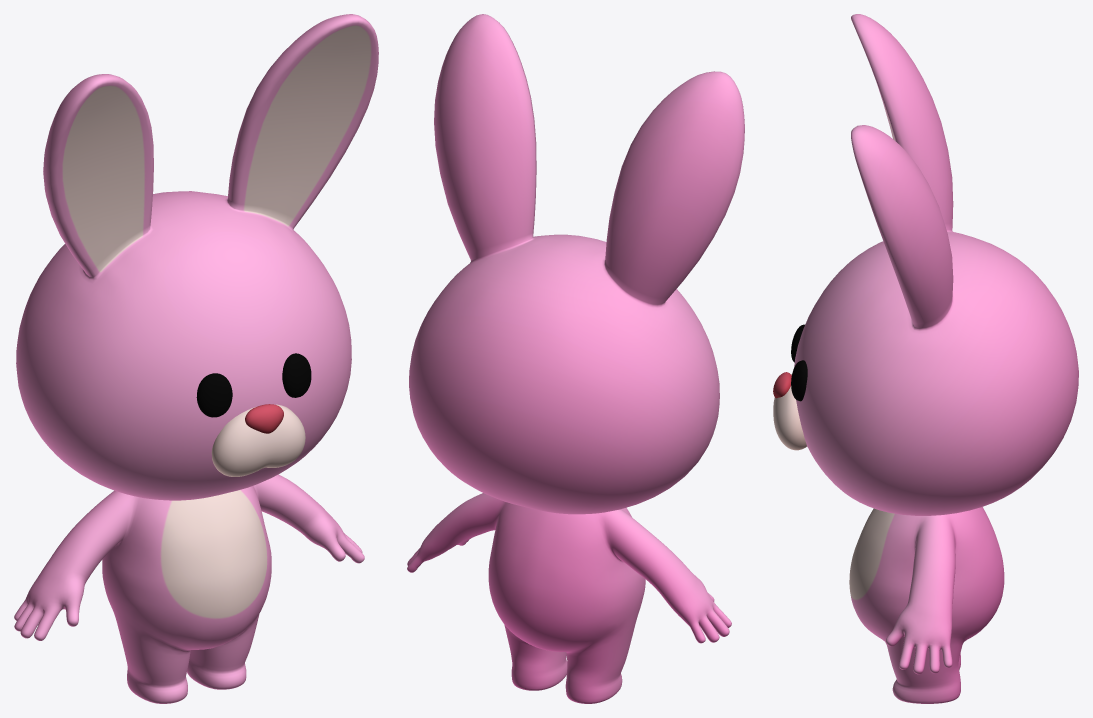
3 renders of one model, left to right at view 1: azimuth 30°, elevation 25°; view 2: azimuth 150°, elevation 25°; view 3: azimuth 270°, elevation 25°, orthographic. The views are drawn at different scales.
Visible parts, largest first — view 1: Bunny; view 2: Bunny; view 3: Bunny.
Boxes of the visible parts, left/top/right/bottom form: Bunny: left=14, top=14, right=378, bottom=703; Bunny: left=407, top=14, right=744, bottom=703; Bunny: left=773, top=14, right=1078, bottom=703.
Size of the model in its own units: 0.7904 by 1.47 by 0.6704.
1 material, 1 textured.
